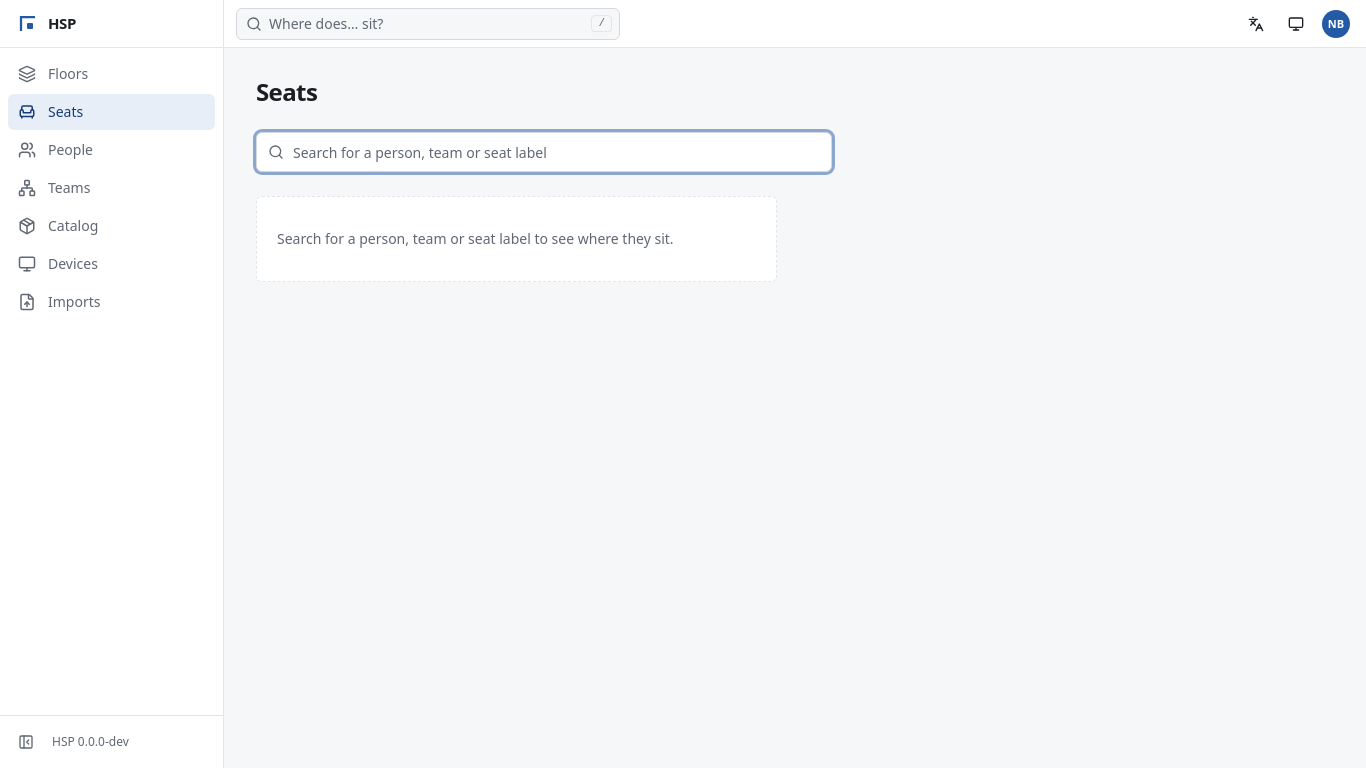
Test case: app shell (docs/0087) › collapses the sidebar to icons and keeps names for screen readers
expect the navigation bar named "Main" is shown: met, box [8,64,215,311]
Step 1. Click the button named "Collapse sidebar" → coordinates (26, 742), box [8,724,44,760]
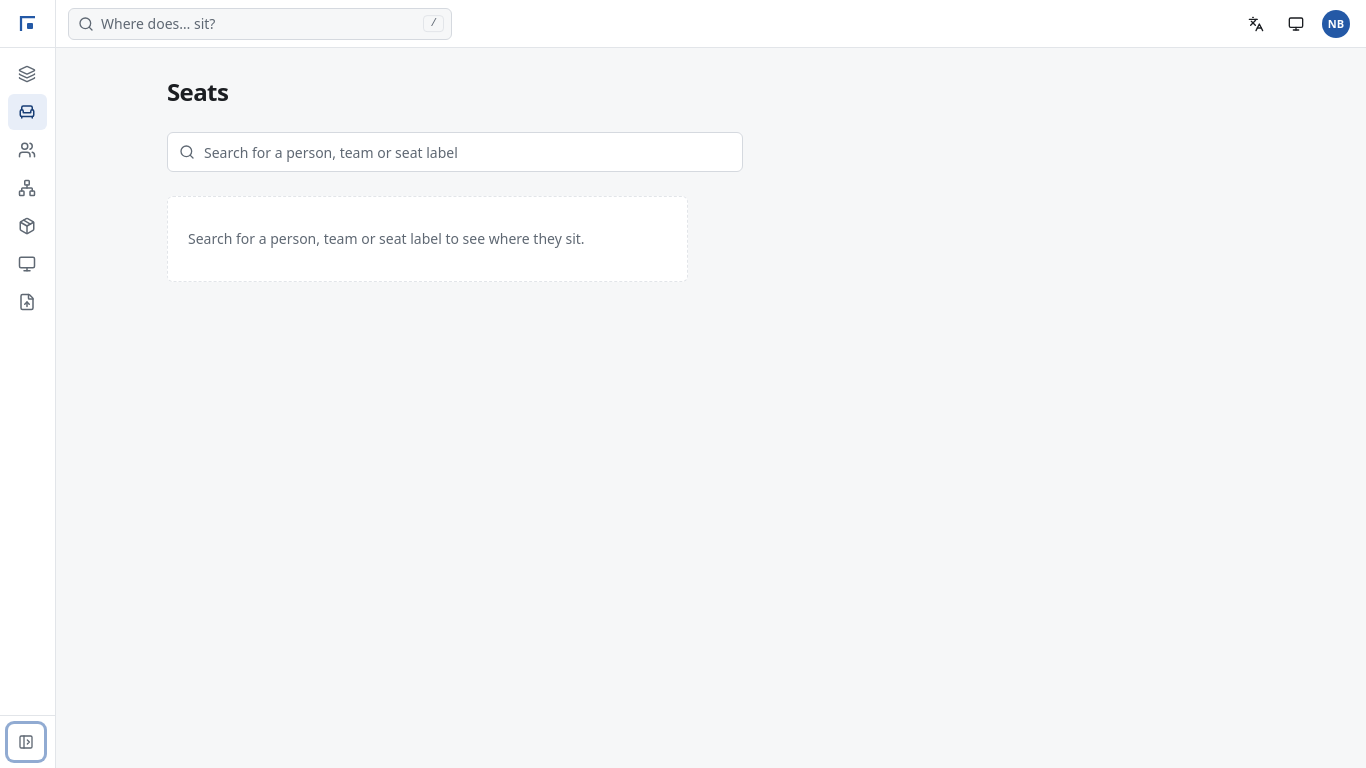
expect the 2nd link named "Seats" is shown: met, box [8,94,47,130]
expect the button named "Expand sidebar" is shown: met, box [8,724,44,760]
